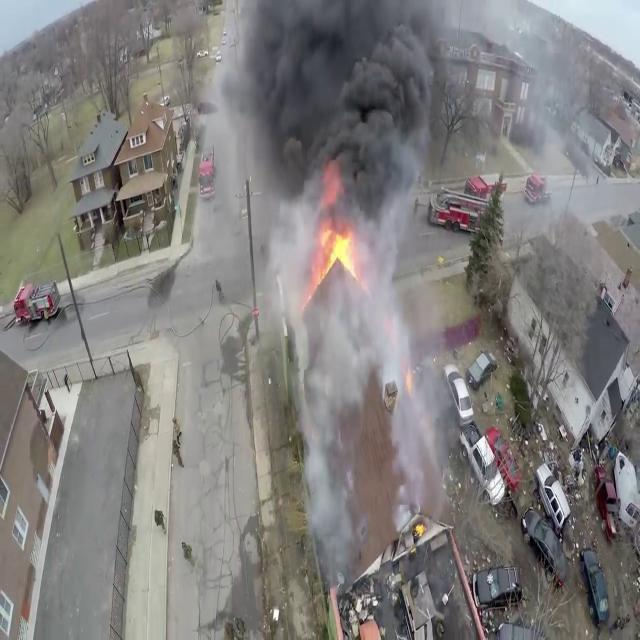Fire: (310, 198, 360, 290)
Smoke: (233, 0, 456, 548)
